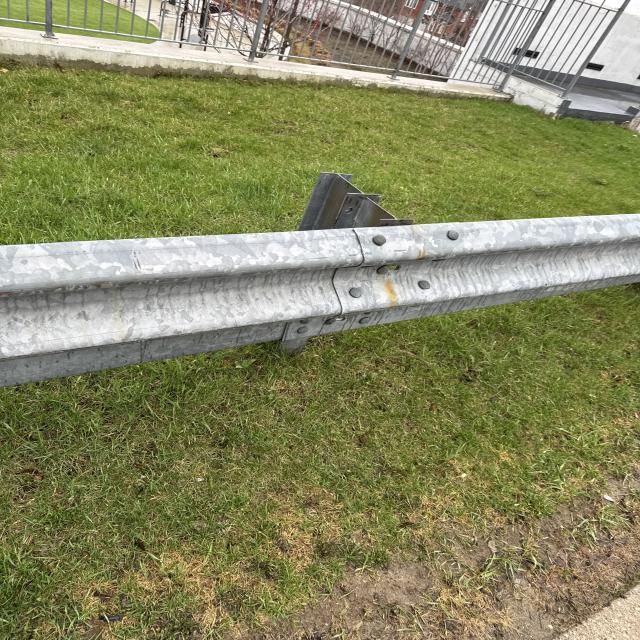Guard rail: (5, 189, 618, 368)
